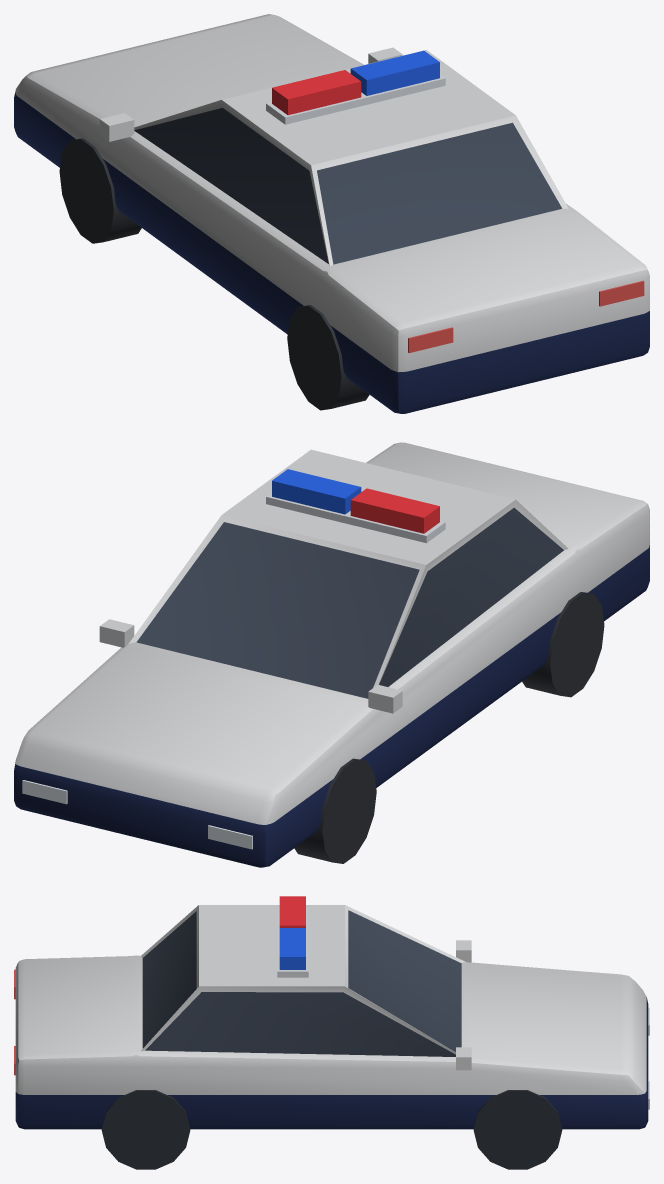
Rendered from police_car.glb.
The picture shows the model from 3 angles, top to bottom: view 1: azimuth 30°, elevation 25°; view 2: azimuth 150°, elevation 25°; view 3: azimuth 270°, elevation 25°; orthographic projection. The views are drawn at different scales.
Visible parts, largest first — view 1: Body, LightBarRed, LightBarBlue; view 2: Body, LightBarRed, LightBarBlue; view 3: Body, LightBarBlue, LightBarRed.
Boxes of the visible parts, left/top/right/bottom form: Body: left=14, top=14, right=649, bottom=413; LightBarRed: left=272, top=70, right=361, bottom=115; LightBarBlue: left=350, top=50, right=439, bottom=95; Body: left=14, top=442, right=649, bottom=867; LightBarRed: left=350, top=488, right=439, bottom=533; LightBarBlue: left=272, top=469, right=361, bottom=514; Body: left=14, top=905, right=649, bottom=1169; LightBarBlue: left=279, top=928, right=305, bottom=969; LightBarRed: left=279, top=896, right=305, bottom=927.
Size of the model in its own units: 2.12 by 1.61 by 4.87.
